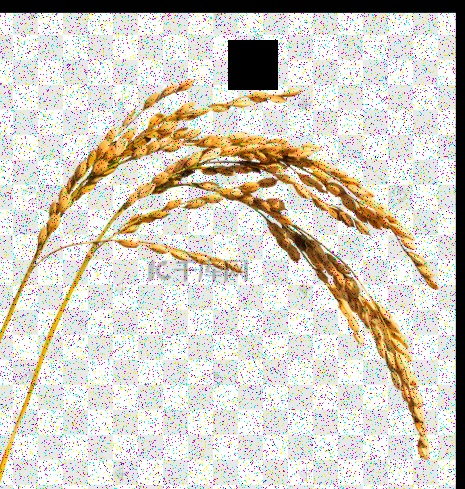rice: (83, 164, 427, 461), (22, 81, 438, 273)
